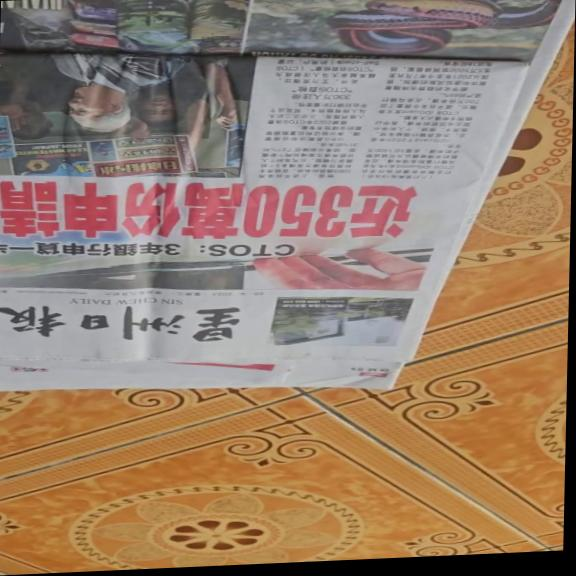Kertas: (0, 0, 406, 402)
